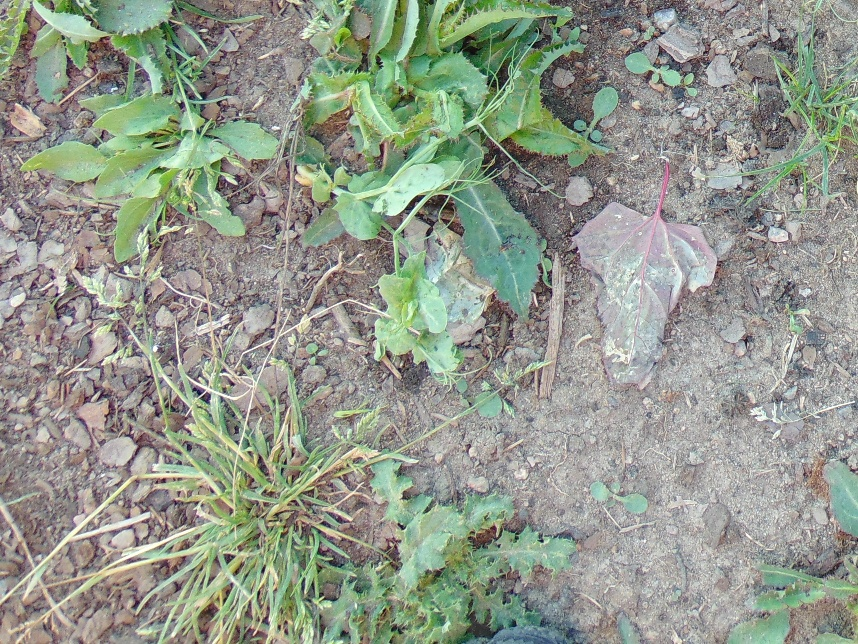crop: (370, 242, 459, 380), (296, 155, 468, 218)
weed: (154, 345, 376, 637), (320, 455, 585, 644), (22, 63, 260, 262), (302, 5, 597, 163), (717, 459, 858, 641), (1, 1, 232, 102), (762, 43, 858, 183), (620, 46, 705, 95), (589, 477, 649, 517), (458, 381, 514, 420)
